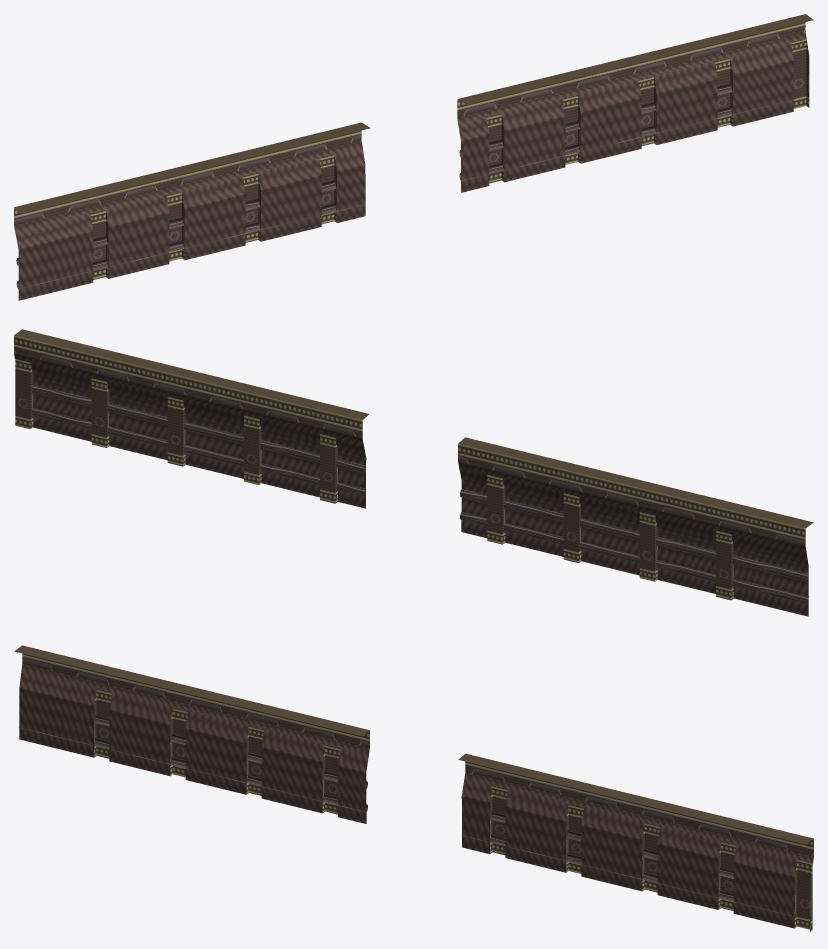
Rendered from Wall_Door_50x50.glb.
The picture shows the model from 3 angles, top to bottom: view 1: azimuth 30°, elevation 25°; view 2: azimuth 150°, elevation 25°; view 3: azimuth 330°, elevation 25°; orthographic projection.
Visible parts, largest first — view 1: Wall.004; view 2: Wall.004; view 3: Wall.004.
Part boxes in pixels (<box>): Wall.004: <box>14,14,813,300</box>; Wall.004: <box>14,329,813,616</box>; Wall.004: <box>14,645,813,931</box>.
Size of the model in its own units: 50 by 5.5 by 0.9039.
Materials: 2 (2 with a texture image).
